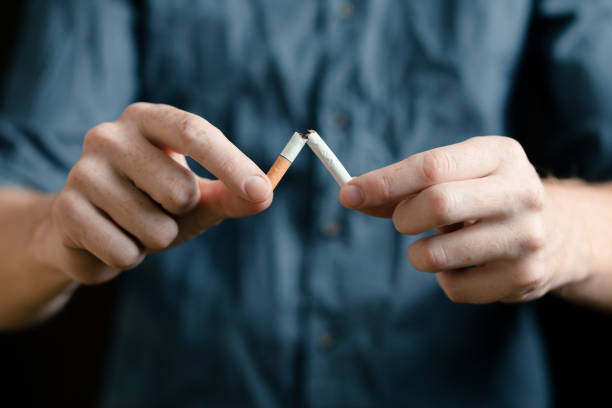cigarette: (302, 129, 352, 187), (265, 131, 309, 192)
